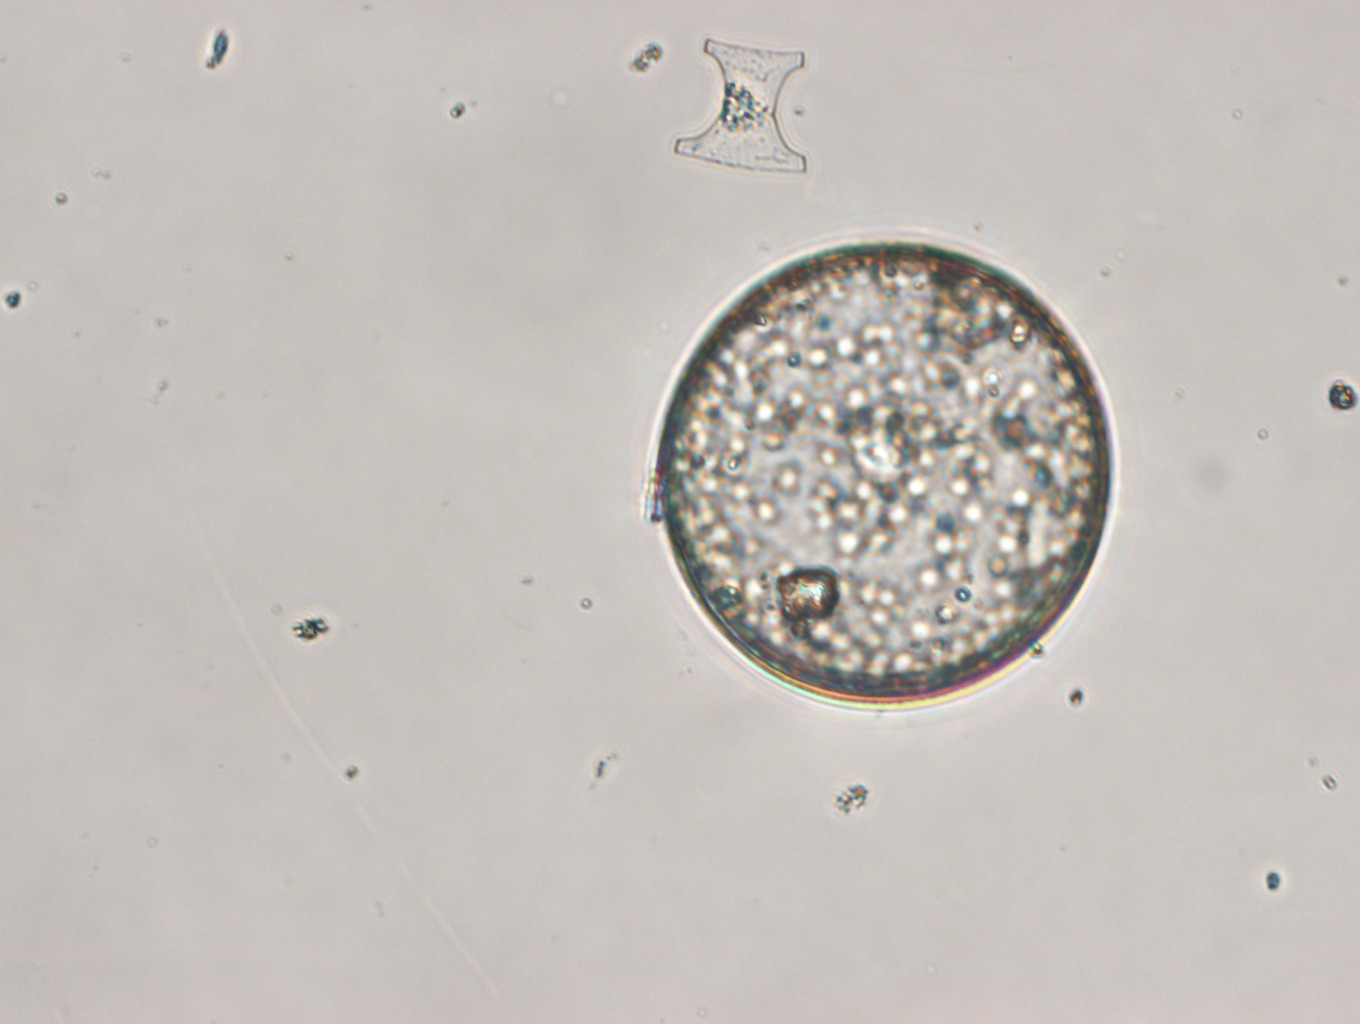coscinodiscus: (646, 236, 1118, 708)
eucampia: (670, 37, 808, 177)
